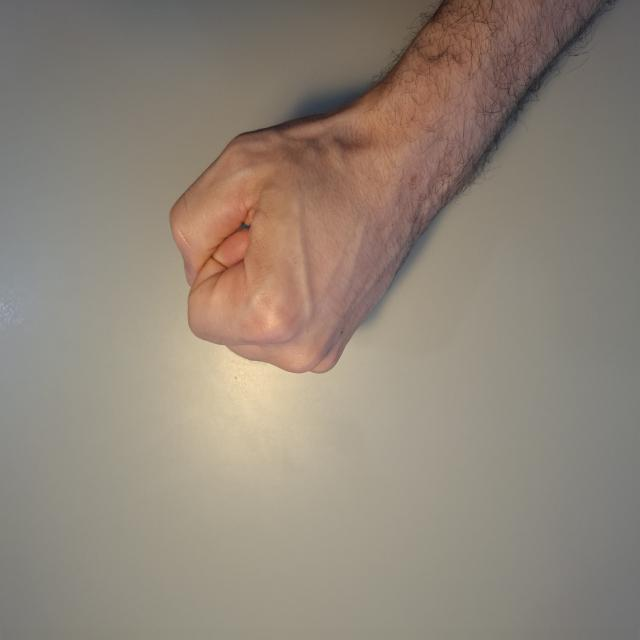glove_off: (166, 81, 436, 378)
